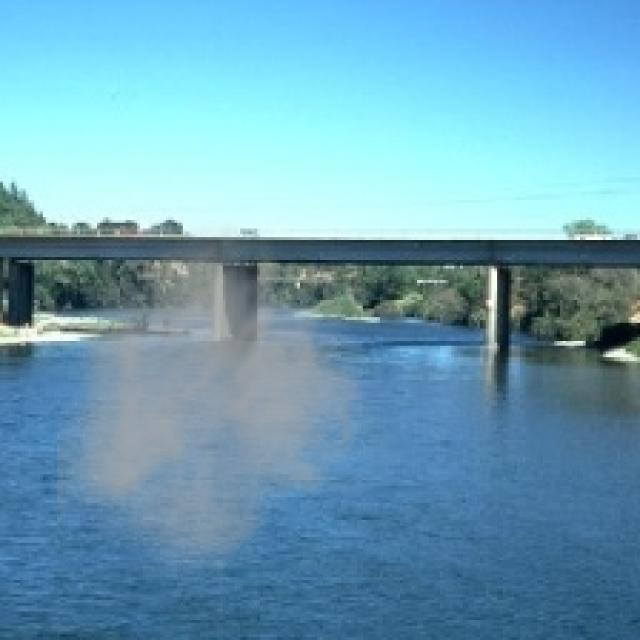Smoke: (57, 212, 400, 592)
